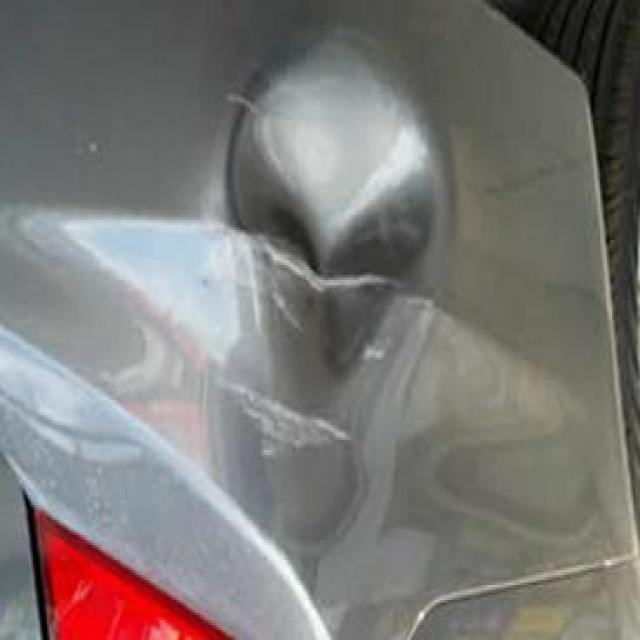dent: (212, 31, 459, 464)
